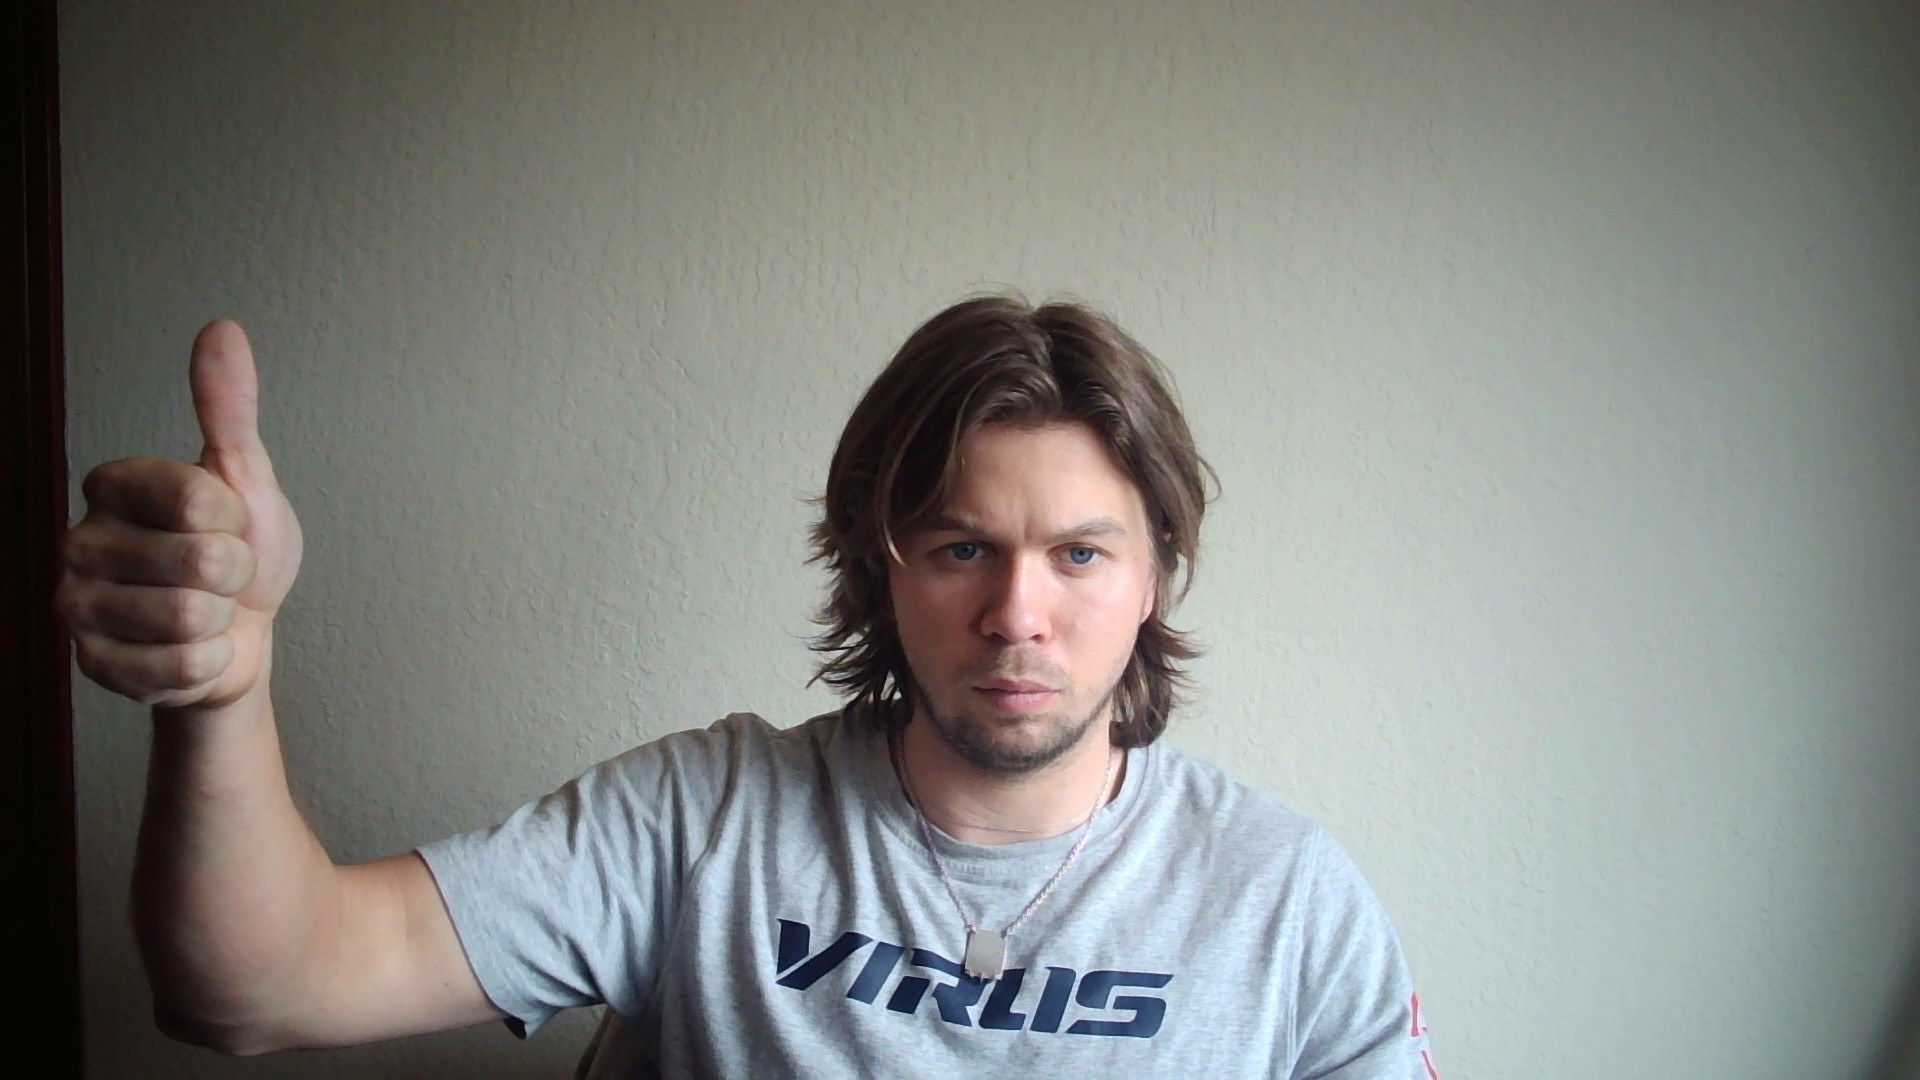good: (55, 318, 303, 712)
